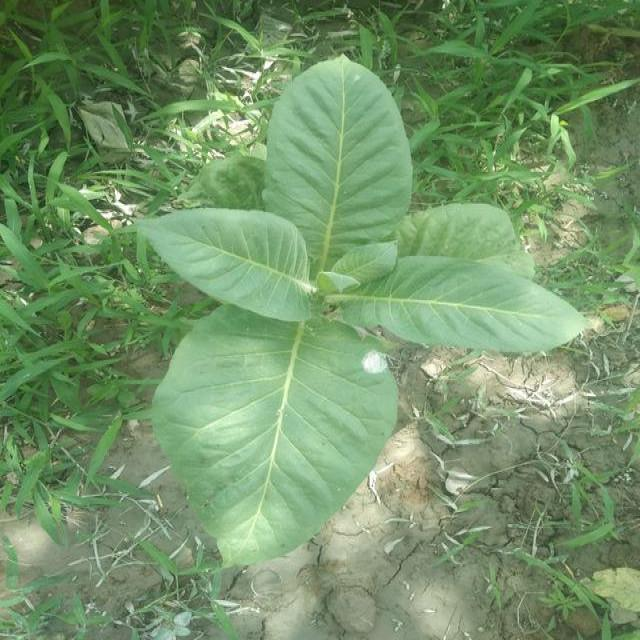crop: (127, 51, 586, 552)
